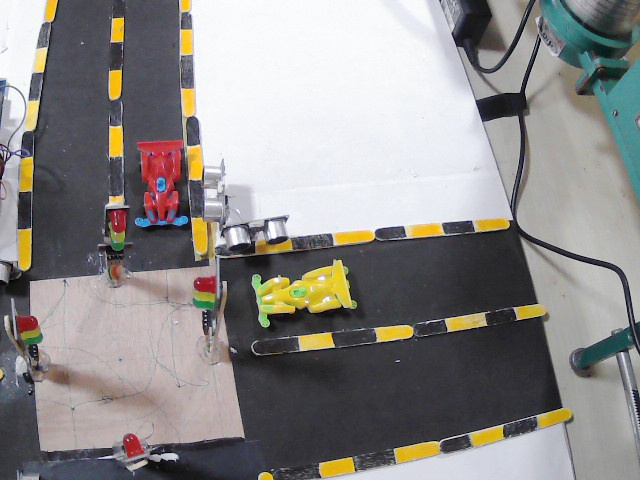black_strip: (14, 182, 33, 229), (183, 182, 208, 216), (357, 451, 400, 469), (497, 415, 535, 435), (255, 337, 299, 354), (334, 329, 373, 347), (274, 465, 320, 480), (108, 158, 126, 196), (441, 431, 475, 451), (223, 235, 254, 256), (483, 308, 510, 331), (295, 230, 333, 246), (414, 315, 443, 335), (185, 118, 202, 150), (373, 225, 402, 242), (179, 56, 195, 86), (29, 71, 46, 97), (36, 24, 55, 47), (446, 219, 471, 236), (22, 132, 37, 159), (108, 44, 124, 69), (106, 105, 123, 125), (179, 10, 194, 30), (110, 2, 124, 17)
car: (249, 262, 361, 326), (137, 140, 188, 227)
mixed_lane: (253, 404, 574, 480), (248, 302, 545, 358), (12, 0, 61, 272), (216, 216, 510, 260), (177, 1, 209, 256), (106, 0, 127, 206)
traffic_light: (185, 266, 230, 342), (4, 295, 44, 365), (101, 205, 134, 265), (114, 427, 154, 470)
uno_breadboard: (220, 213, 294, 248), (198, 162, 234, 221), (0, 259, 13, 284)
yellow_strip: (396, 441, 437, 464), (188, 219, 212, 256), (17, 99, 41, 131), (535, 409, 570, 430), (405, 221, 443, 240), (446, 314, 485, 332), (319, 456, 353, 476), (467, 426, 502, 445), (332, 229, 375, 244), (256, 237, 293, 254), (376, 324, 410, 341), (471, 215, 505, 232), (300, 335, 332, 353), (108, 127, 126, 159), (187, 145, 203, 180), (18, 154, 34, 188), (17, 231, 30, 269), (108, 70, 123, 102), (180, 88, 197, 115), (32, 47, 48, 75), (514, 303, 545, 317), (179, 30, 195, 53), (110, 18, 125, 42), (43, 1, 57, 24), (108, 196, 125, 204), (181, 2, 192, 11), (258, 471, 270, 477)
